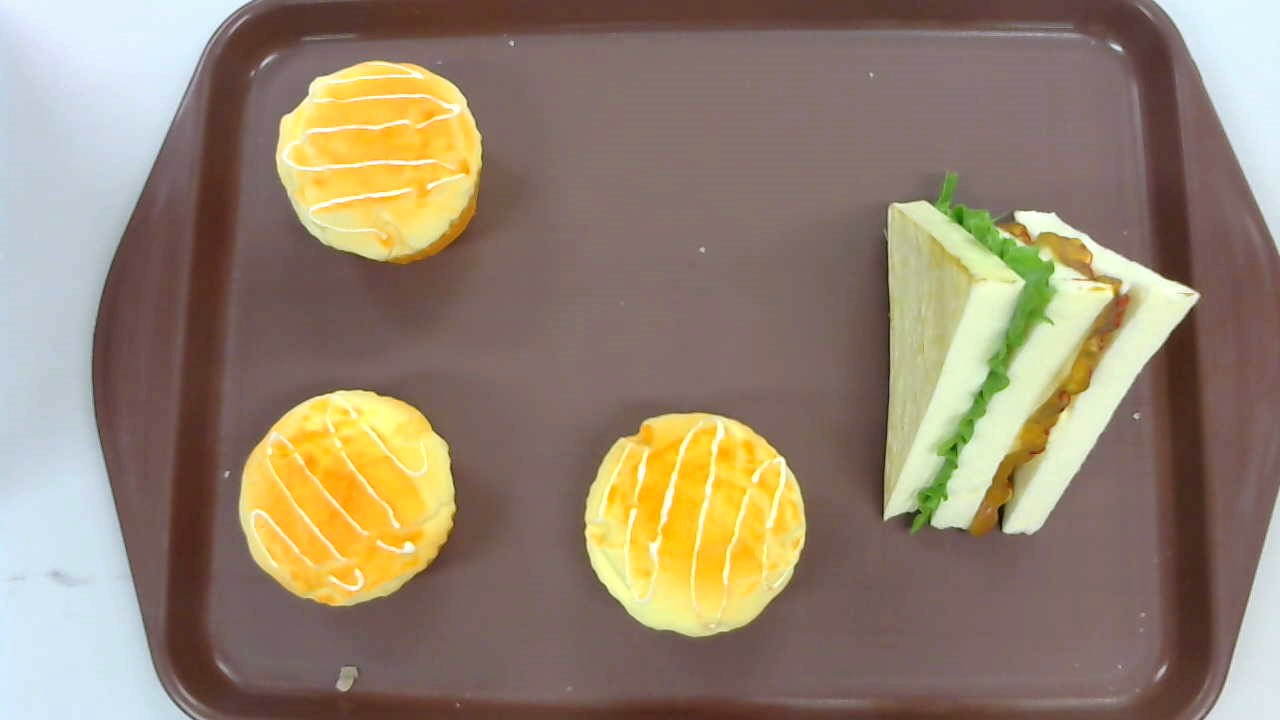cupcake: (583, 409, 806, 639), (238, 390, 457, 607), (276, 58, 484, 266)
sandwich: (881, 170, 1201, 538)
